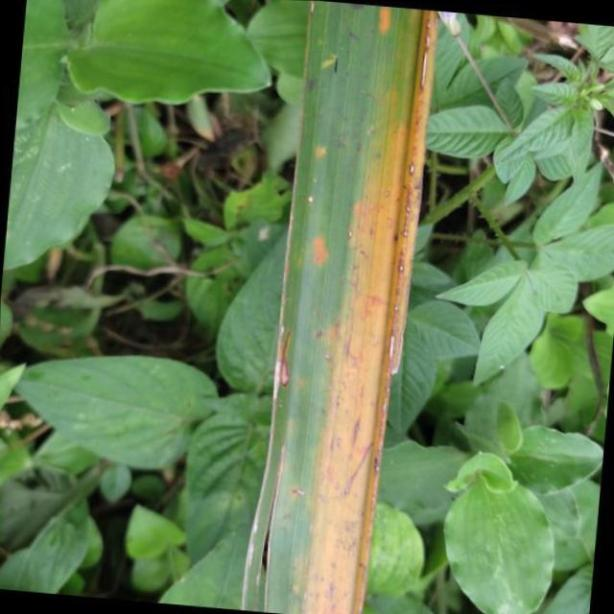Megnesium: (243, 0, 443, 614)
